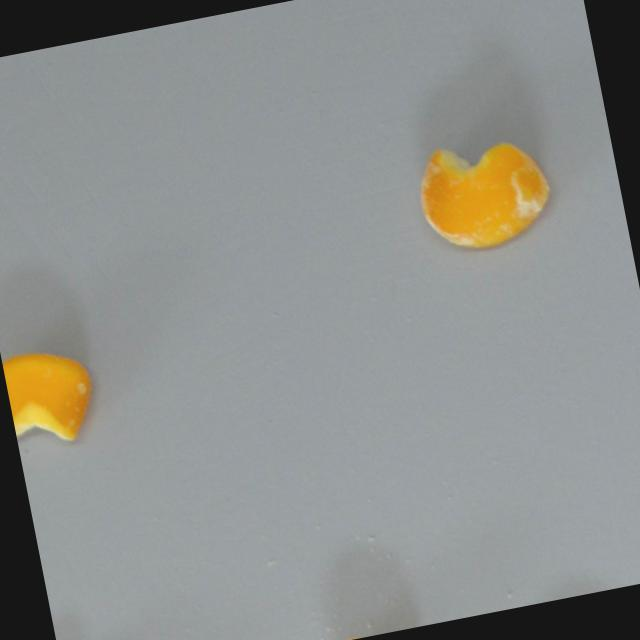no_canjicado: (1, 340, 103, 453)
pelicula: (410, 127, 558, 259)
